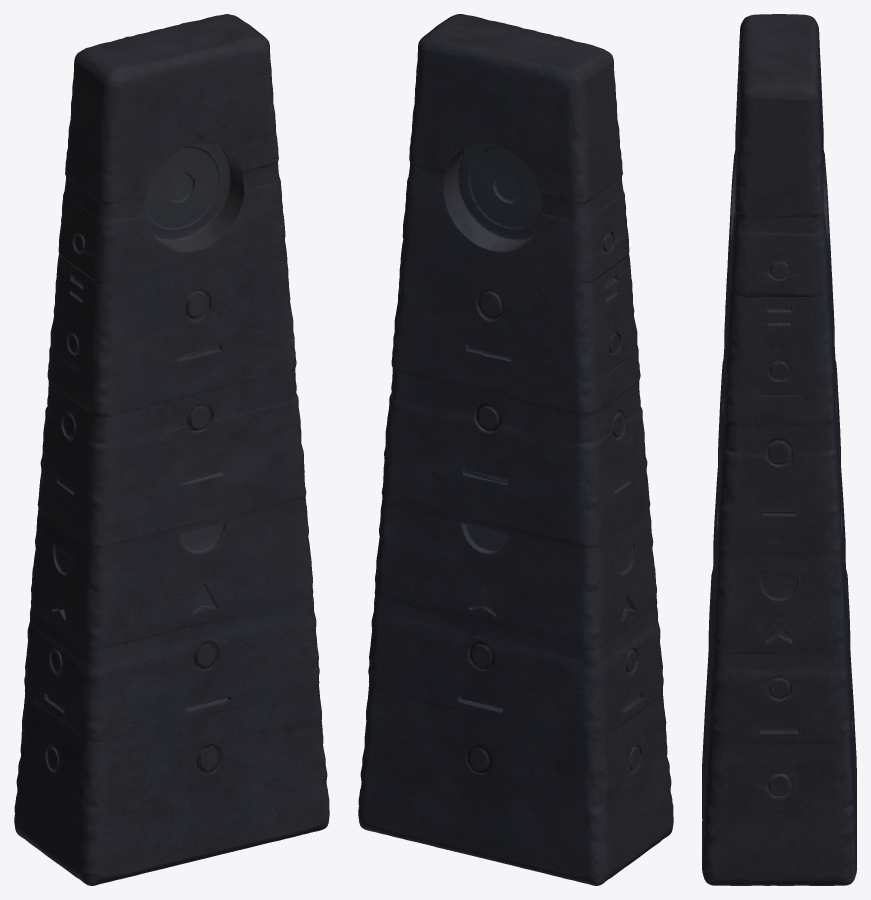
The model's file is building_tall.glb.
The picture shows the model from 3 angles, left to right: view 1: azimuth 30°, elevation 25°; view 2: azimuth 150°, elevation 25°; view 3: azimuth 270°, elevation 25°; orthographic projection.
Size of the model in its own units: 0.6222 by 1.9 by 0.3412.
1 material, 1 textured.
